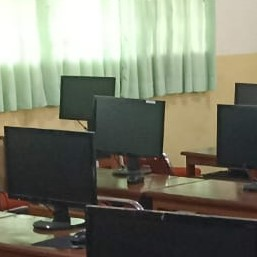monitor: (4, 126, 144, 222), (91, 95, 165, 158), (216, 104, 257, 170), (59, 75, 116, 121), (234, 83, 257, 105)
